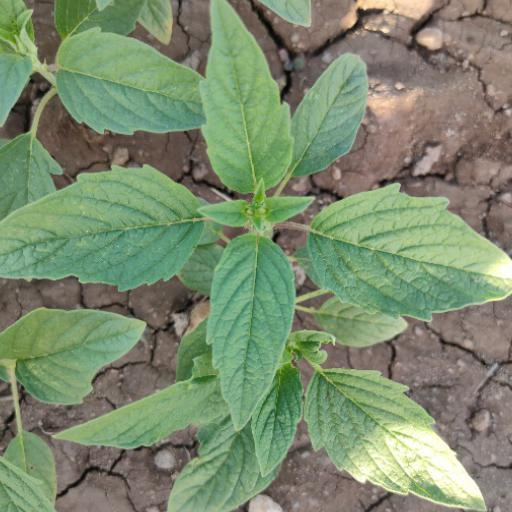crop: (5, 8, 503, 507)
